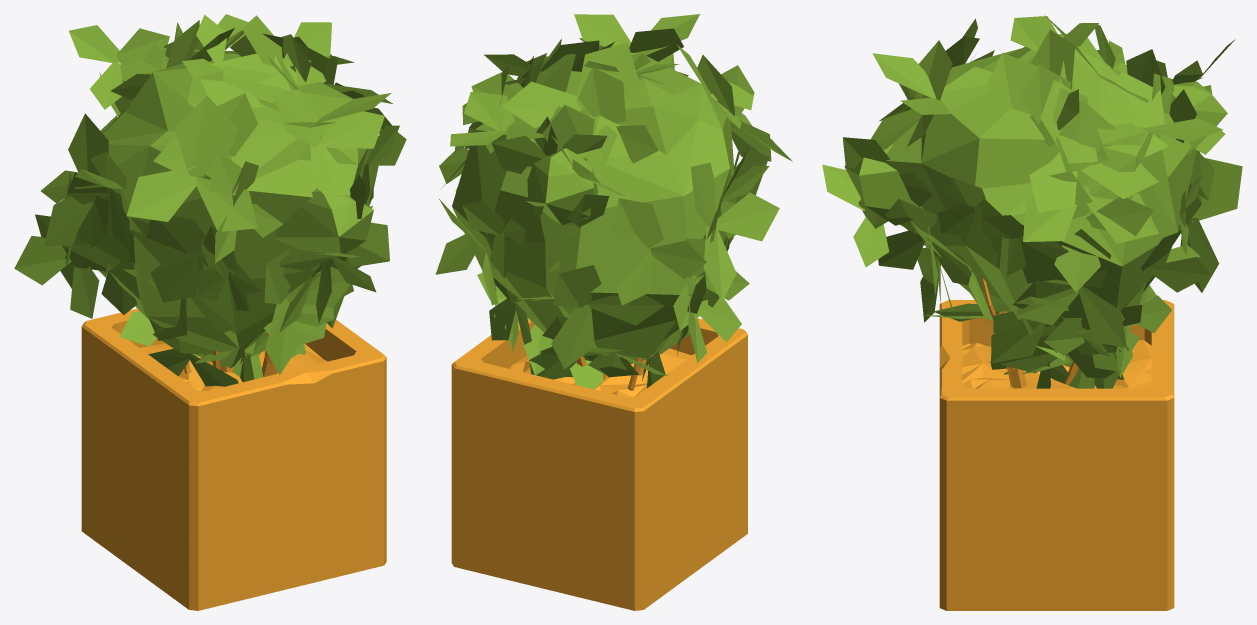
The model's file is SM_City_Planter_Street_E_Filled.fbx.
3 views of the same model, side by side, from view 1: azimuth 30°, elevation 25°; view 2: azimuth 150°, elevation 25°; view 3: azimuth 270°, elevation 25° (orthographic). The views are drawn at different scales.
Visible parts, largest first — view 1: SM_City_Planter_Street_E_Filled; view 2: SM_City_Planter_Street_E_Filled; view 3: SM_City_Planter_Street_E_Filled.
Boxes of the visible parts, x1,y1,x2,y2 form: SM_City_Planter_Street_E_Filled: (14, 14, 406, 610); SM_City_Planter_Street_E_Filled: (435, 14, 792, 610); SM_City_Planter_Street_E_Filled: (822, 14, 1242, 610).
Size of the model in its own units: 1.27 by 2.02 by 1.43.
